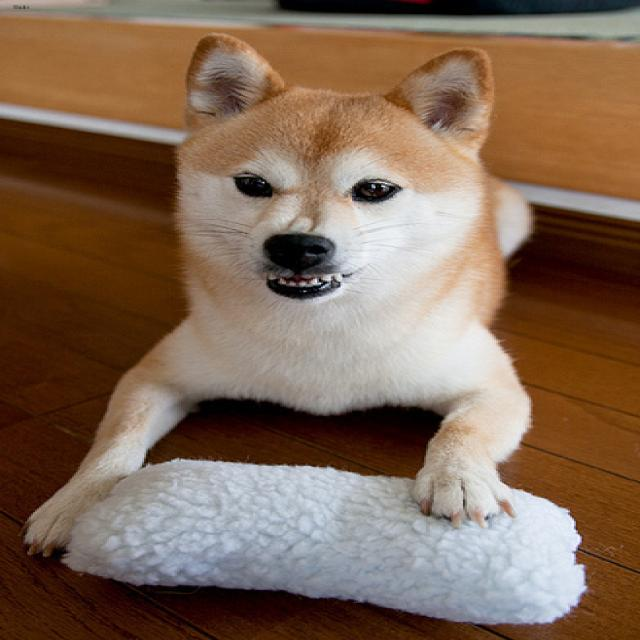dog-shiba_inu: (16, 19, 551, 566)
